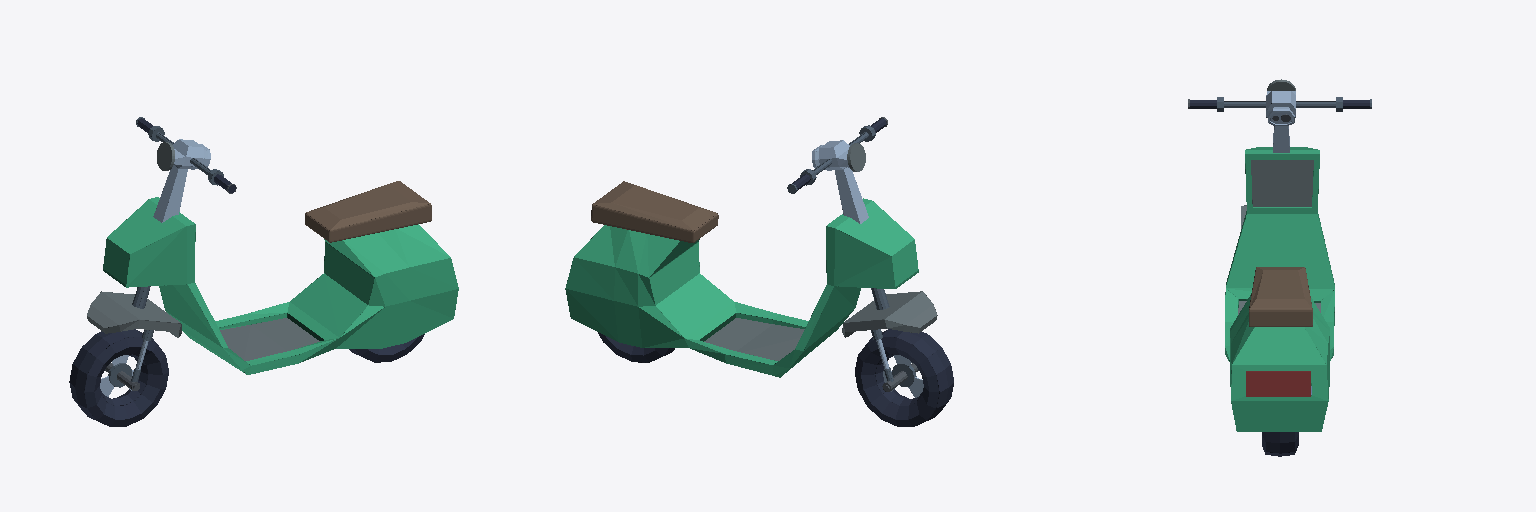
The picture shows the model from 3 angles: view 1: azimuth 30°, elevation 25°; view 2: azimuth 150°, elevation 25°; view 3: azimuth 270°, elevation 25°; orthographic projection.
Parts seen in each view (by area): view 1: CUPIC_SCOOTER; view 2: CUPIC_SCOOTER; view 3: CUPIC_SCOOTER.
Boxes of the visible parts, x1=… form: CUPIC_SCOOTER: x1=69, y1=117, x2=458, y2=426; CUPIC_SCOOTER: x1=565, y1=117, x2=953, y2=426; CUPIC_SCOOTER: x1=1188, y1=79, x2=1371, y2=456.
Bounding box in the file's own units: 19.09 × 13.48 × 8.41.
1 materials, 1 textured.